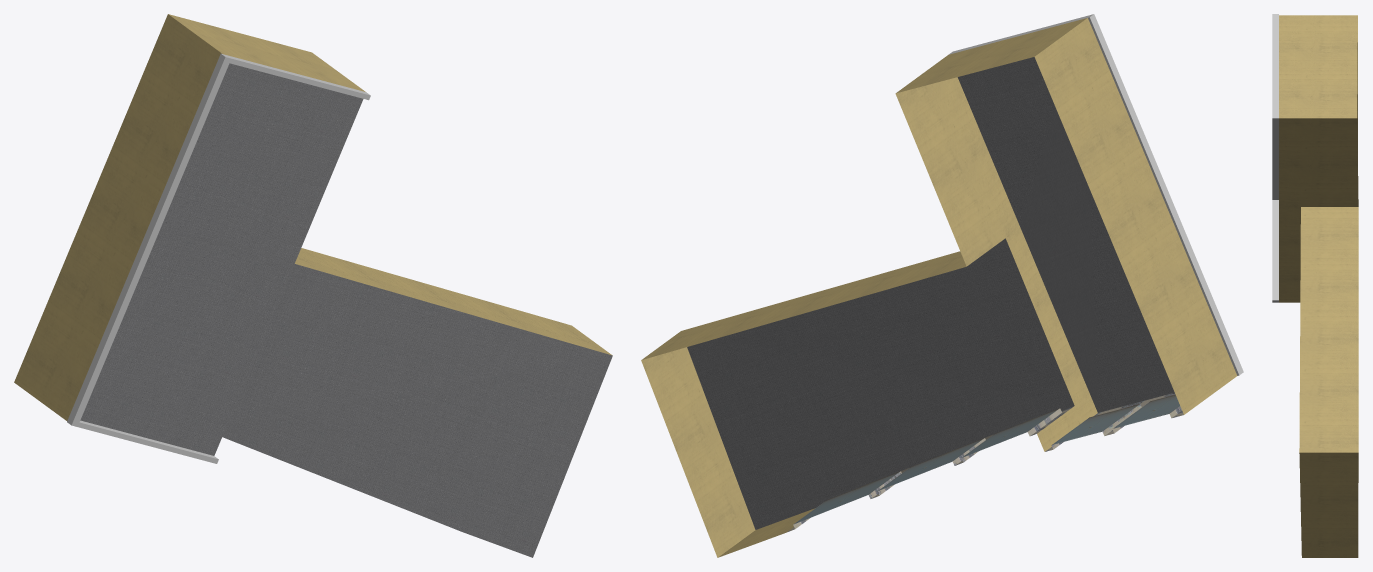
Rendered from Vana-posti_3_3a.obj.
3 views of the same model, side by side, from view 1: azimuth 30°, elevation 25°; view 2: azimuth 150°, elevation 25°; view 3: azimuth 270°, elevation 25° (orthographic). The views are drawn at different scales.
Parts seen in each view (by area): view 1: Vana_Post_3_3a, xxx; view 2: Vana_Post_3_3a, xxx; view 3: xxx, Vana_Post_3_3a.
Part boxes in pixels (x1,y1,x2,y2): Vana_Post_3_3a: (14,14,612,557); xxx: (295,248,612,355); Vana_Post_3_3a: (687,14,1243,557); xxx: (641,251,966,557); xxx: (1299,207,1358,557); Vana_Post_3_3a: (1272,14,1358,302).
Size of the model in its own units: 25.25 by 25.66 by 4.68.
